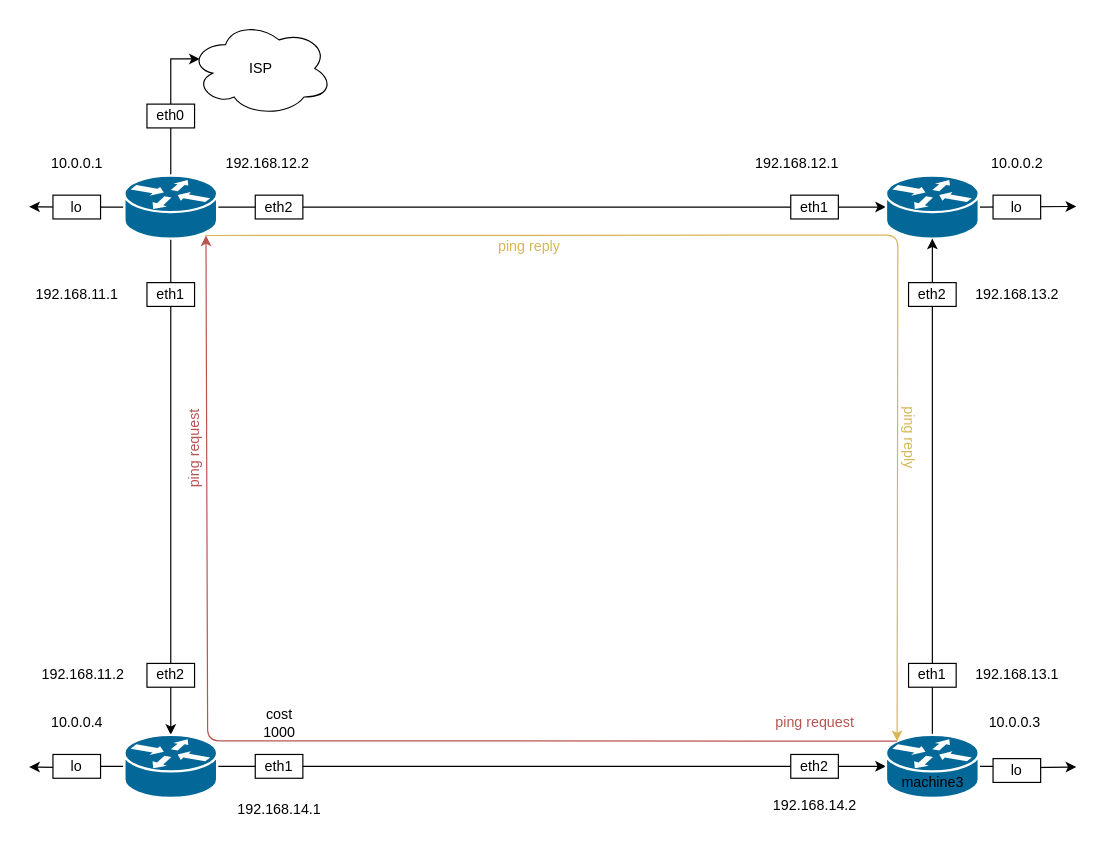
Some shapes in this 1107 by 843 pixel diagram are drawn without their labels. The box of each missing label's shape, as (x1, y1, x2, y2) in pixels:
machine1: (123, 174, 218, 239)
machine2: (884, 174, 979, 239)
machine4: (123, 733, 218, 798)
